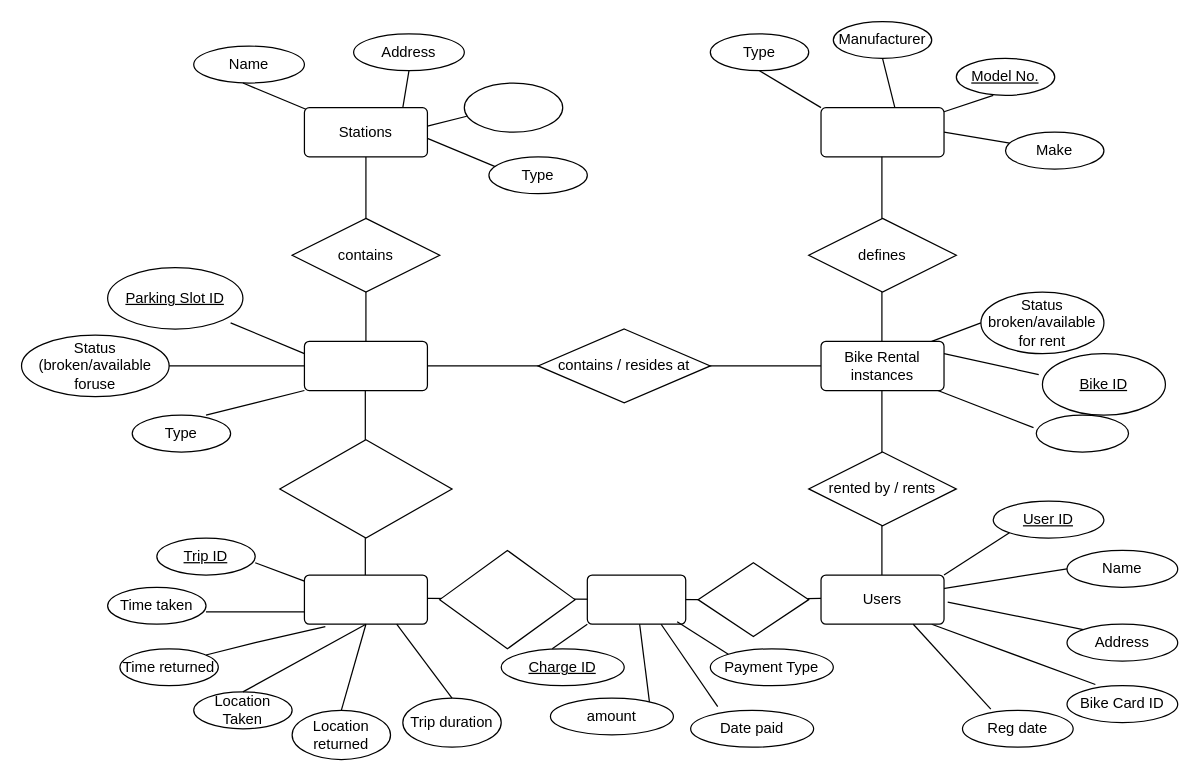
Image size: 1199x781. Some labels were removed from this diagram. The shapes that lost their labels are listed below. From the top down, each one's centre as x and y in pixels, then its label:
[513,107]: Station ID
[882,131]: Bike Definitions
[365,365]: Parking slots
[1082,433]: Wheel size
[365,488]: used to determine / determined by
[365,599]: Trips
[506,599]: determine / calculated using
[636,599]: Charges
[753,599]: Pays / charged to
